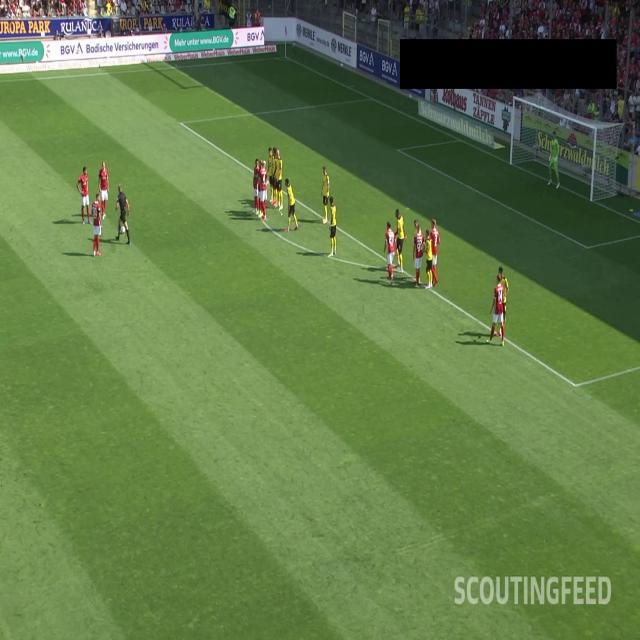ball: (119, 220, 127, 236)
player: (484, 272, 507, 348), (74, 164, 93, 227), (88, 190, 104, 258), (492, 267, 508, 331), (546, 129, 561, 192), (429, 217, 442, 288), (394, 208, 408, 272), (422, 227, 436, 290), (284, 175, 298, 232), (414, 224, 426, 290), (98, 159, 110, 222), (383, 219, 395, 282), (274, 144, 284, 212), (328, 196, 337, 260), (413, 215, 422, 276), (321, 162, 329, 225), (251, 156, 259, 217), (267, 146, 274, 204), (260, 158, 266, 222), (272, 146, 278, 208), (258, 157, 262, 216)
referee: (114, 180, 131, 247)
